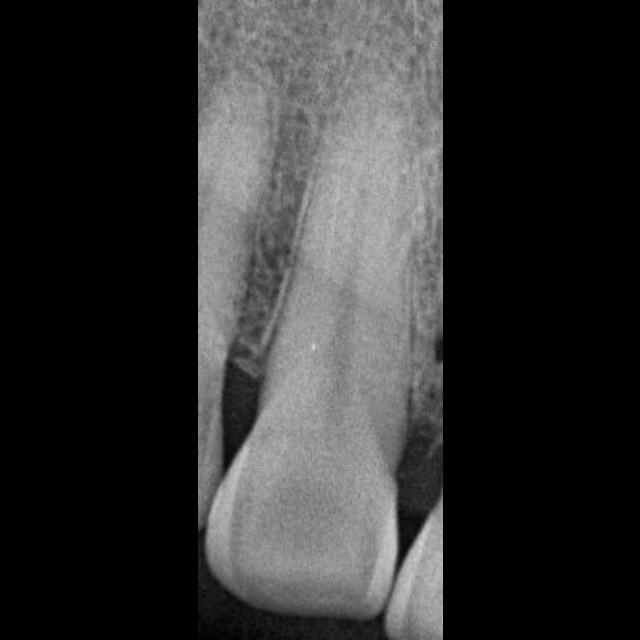tooth: (203, 79, 418, 620)
